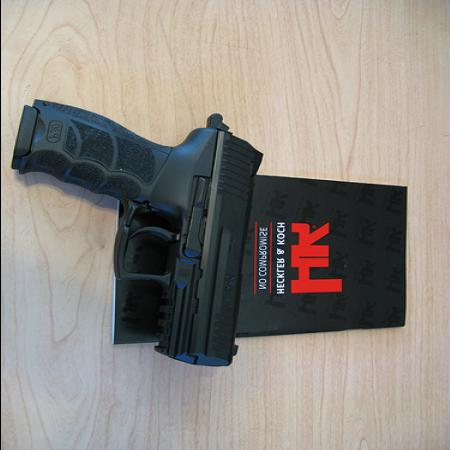Pistol: (19, 90, 263, 372)
